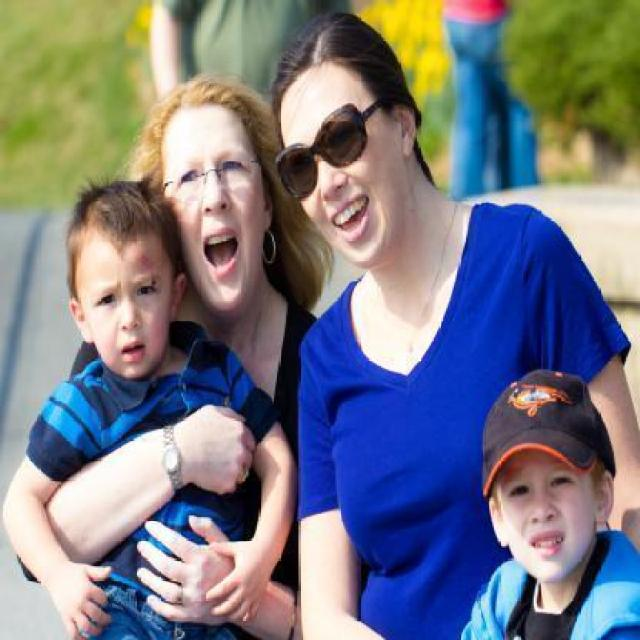face_nomask: (282, 118, 396, 242), (168, 159, 262, 275), (498, 466, 590, 562), (90, 270, 165, 367)
glasses: (279, 95, 403, 198), (164, 150, 256, 198)
hand_noglove: (119, 510, 241, 635), (173, 398, 259, 494), (204, 532, 274, 626), (44, 564, 121, 638)
head_nohelmet: (474, 362, 604, 470), (256, 25, 390, 90), (71, 179, 167, 255), (141, 81, 259, 136)
person: (266, 15, 640, 640), (27, 167, 281, 640), (451, 358, 640, 640)
